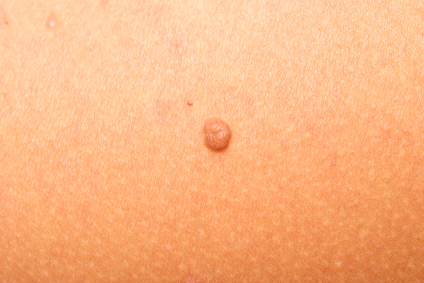melanoma: (146, 61, 278, 166)
